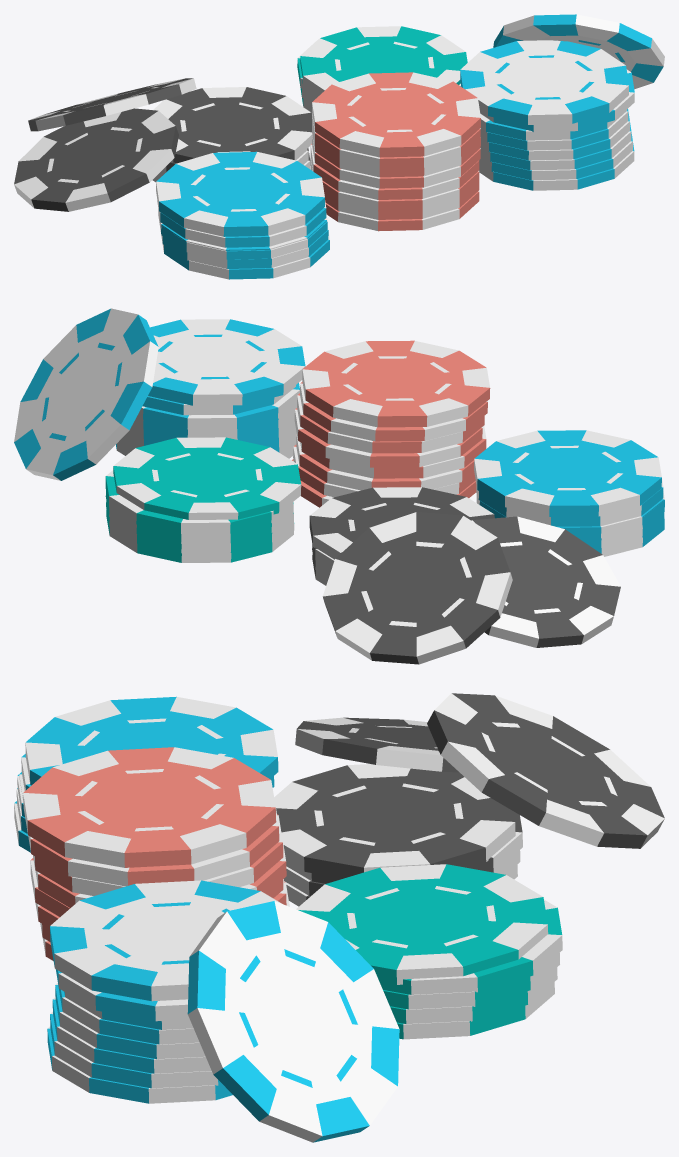
The model's file is chips.fbx.
The picture shows the model from 3 angles, top to bottom: view 1: azimuth 30°, elevation 25°; view 2: azimuth 150°, elevation 25°; view 3: azimuth 270°, elevation 25°; orthographic projection. The views are drawn at different scales.
Visible parts, largest first — view 1: model; view 2: model; view 3: model.
Boxes of the visible parts, x1,y1,x2,y2 form: model: (14, 14, 664, 279); model: (14, 308, 664, 664); model: (14, 693, 664, 1142).
Size of the model in its own units: 245 by 50 by 159.
